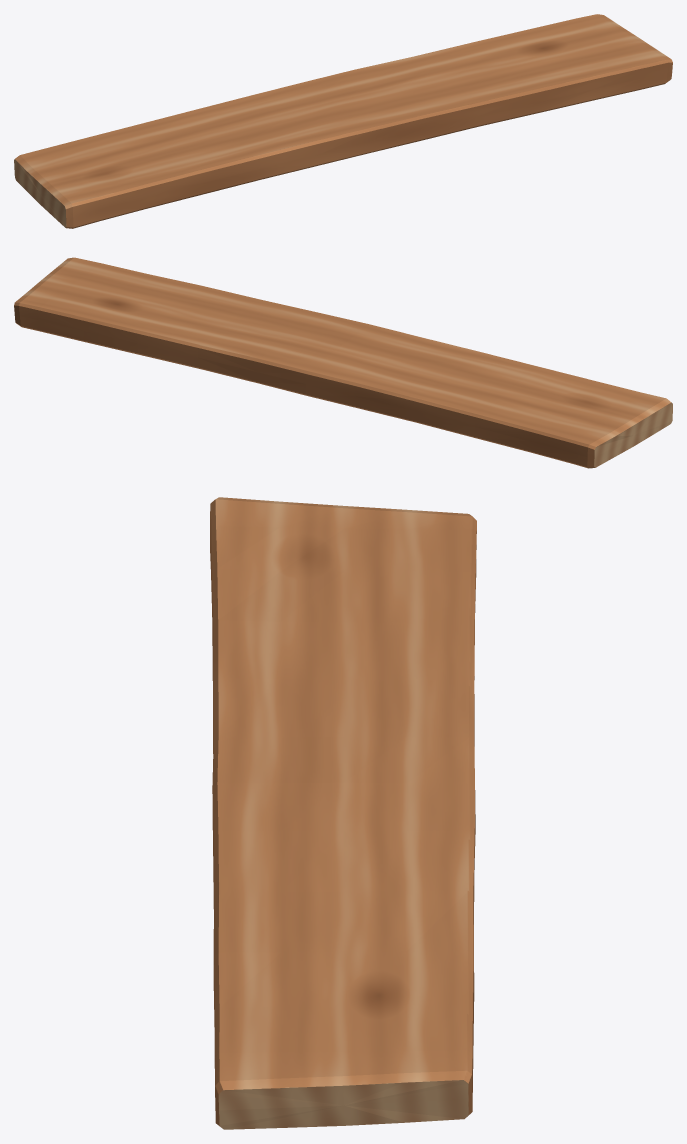
Rendered from SM_Plank.fbx.
3 views of the same model, one above another, from view 1: azimuth 30°, elevation 25°; view 2: azimuth 150°, elevation 25°; view 3: azimuth 270°, elevation 25° (orthographic). The views are drawn at different scales.
Parts seen in each view (by area): view 1: SM_Plank; view 2: SM_Plank; view 3: SM_Plank.
Boxes of the visible parts, x1,y1,x2,y2 form: SM_Plank: (14,14,672,228); SM_Plank: (14,257,672,468); SM_Plank: (210,497,476,1129).
Size of the model in its own units: 115 by 22.08 by 5.32.
1 material, 1 textured.
